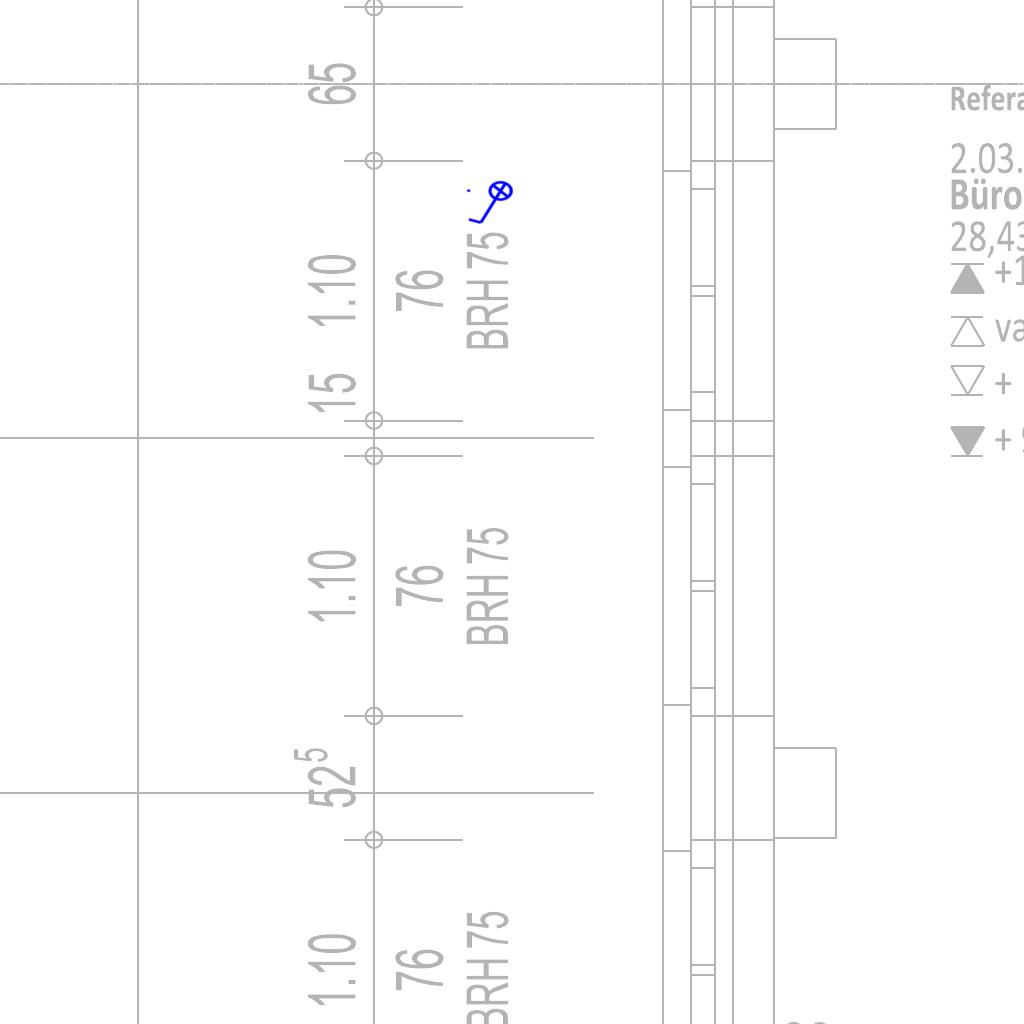Ausschalter_beleuchtet: (464, 180, 520, 228)
